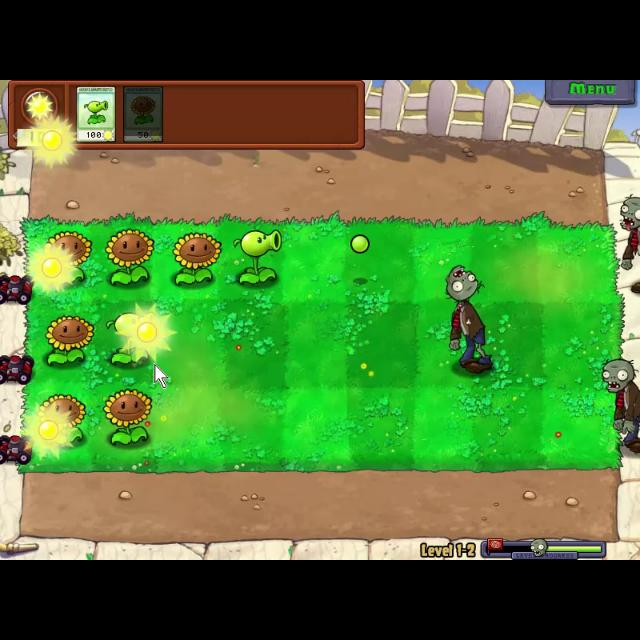Garden: (17, 213, 625, 473)
Menu Button: (543, 80, 635, 106)
Mower: (1, 272, 36, 308), (0, 354, 38, 386), (1, 431, 36, 465)
Peashooter: (74, 86, 118, 142)
Peashooter Seed: (232, 223, 288, 287), (102, 314, 160, 374)
Seed Panel: (7, 80, 370, 152)
Sun: (116, 303, 176, 359), (29, 245, 77, 292), (24, 409, 72, 453)
Sunflower: (122, 81, 166, 145)
Sunflower Seed: (103, 389, 159, 447), (170, 231, 222, 287), (42, 227, 92, 285), (102, 230, 152, 286), (42, 312, 90, 370), (38, 392, 86, 444)
Zombie: (594, 352, 640, 452), (448, 302, 494, 376), (620, 192, 640, 294)
